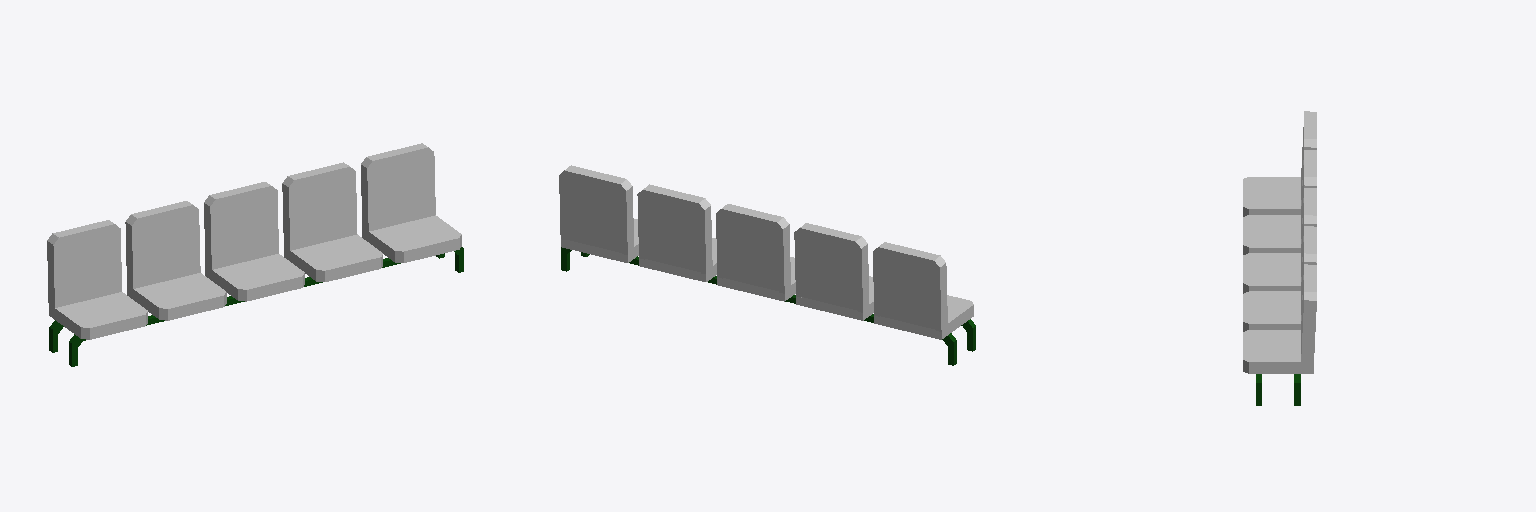
The model's file is chair2.obj.
3 views of the same model, side by side, from view 1: azimuth 30°, elevation 25°; view 2: azimuth 150°, elevation 25°; view 3: azimuth 270°, elevation 25° (orthographic).
Visible parts, largest first — view 1: Part35, Part57, Part23, Part46, Part11, Part12, Part24, Part36, Part47, Part58, Part15, Part3 (+13 smaller); view 2: Part9, Part33, Part44, Part21, Part55, Part53, Part7, Part42, Part31, Part19, Part45, Part56 (+8 smaller); view 3: Part12, Part36, Part24, Part47, Part58, Part29, Part26.
Boxes of the visible parts, <box> form: Part35: <box>373,153,429,229</box>; Part57: <box>216,192,272,268</box>; Part23: <box>138,211,194,287</box>; Part46: <box>294,173,351,248</box>; Part11: <box>59,230,116,306</box>; Part12: <box>61,293,141,325</box>; Part24: <box>140,274,219,306</box>; Part36: <box>375,217,455,248</box>; Part47: <box>296,236,376,267</box>; Part58: <box>218,255,298,287</box>; Part15: <box>166,293,223,320</box>; Part3: <box>87,312,145,339</box>; Part9: <box>878,253,935,329</box>; Part33: <box>565,177,621,252</box>; Part44: <box>643,196,700,271</box>; Part21: <box>800,234,856,309</box>; Part55: <box>721,215,778,290</box>; Part53: <box>777,224,790,295</box>; Part7: <box>934,263,947,335</box>; Part42: <box>699,206,712,273</box>; Part31: <box>621,186,633,254</box>; Part19: <box>856,244,869,312</box>; Part45: <box>643,184,704,208</box>; Part56: <box>721,204,783,227</box>; Part12: <box>1249,179,1300,206</box>; Part36: <box>1249,332,1300,359</box>; Part24: <box>1249,218,1300,244</box>; Part47: <box>1249,294,1300,320</box>; Part58: <box>1249,256,1300,282</box>; Part29: <box>1301,300,1316,370</box>; Part26: <box>1249,360,1306,373</box>.
Bounding box in the file's own units: 15.18 × 4.03 × 2.5.